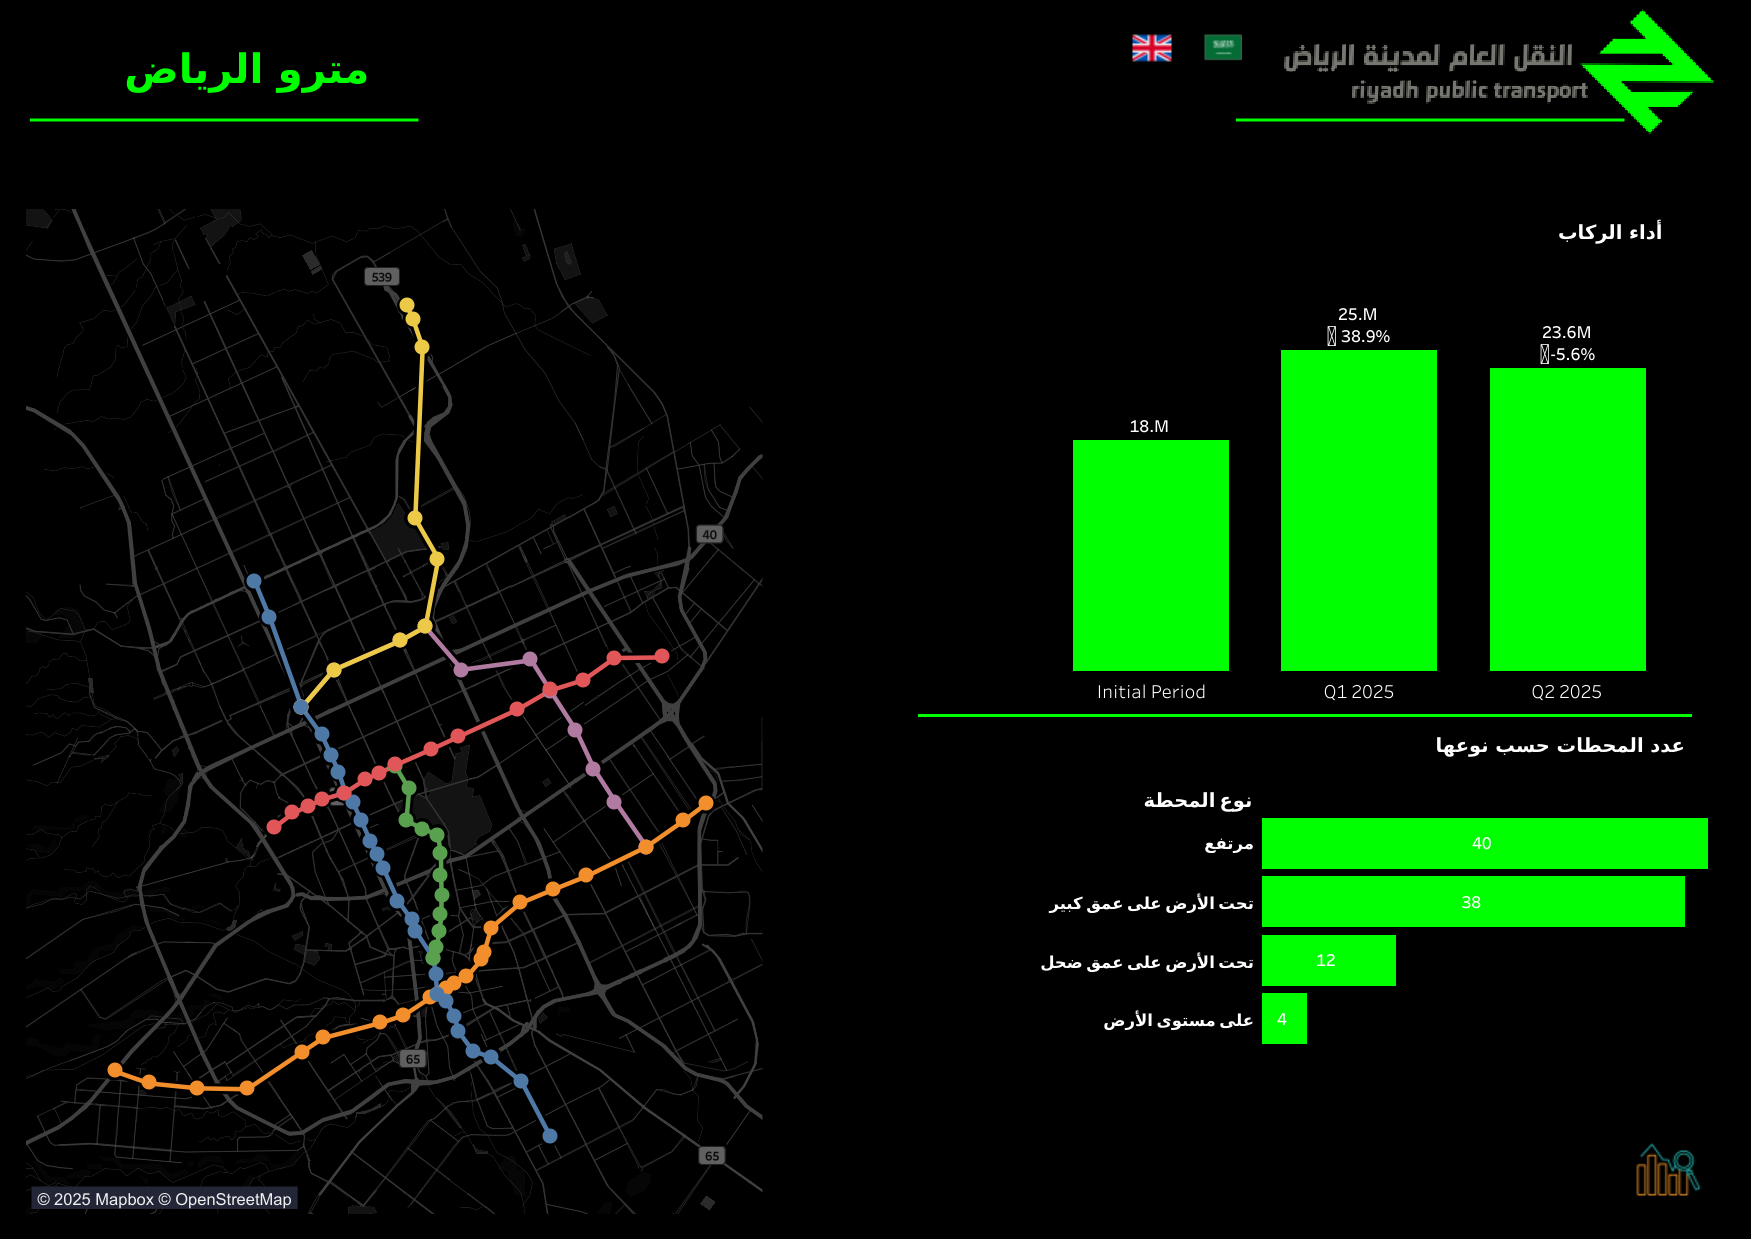

The dashboard page shown, as its layout file describes it:
{"tool":"tableau","page":{"name":"Arabic","canvas":[1169,827],"ordinal":0},"visuals":[{"type":"image","param":"Image/layout_set_logo.png","box":[837,6,325,133]},{"type":"text","box":[16,17,233,57]},{"type":"dashboard-object","box":[748,19,41,26]},{"type":"dashboard-object","box":[797,19,37,25]},{"type":"blank","box":[20,79,259,2]},{"type":"blank","box":[824,79,259,2]},{"type":"text","box":[956,120,155,69]},{"type":"worksheet","title":"arabic","mark":"Circle","rows":["Latitude"],"cols":["Longitude"],"box":[17,124,491,685]},{"type":"worksheet","title":"الركاب","mark":"Automatic","rows":["Passengers (M)"],"cols":["Period"],"box":[698,177,416,292]},{"type":"blank","box":[612,476,516,2]},{"type":"text","box":[870,481,257,30]},{"type":"worksheet","title":"عدد المحطات حسب نوعها","mark":"Automatic","rows":["نوع المحطة"],"cols":["نوع المحطة"],"box":[593,507,560,192]}]}

Visuals, with their boxes in screenshot pixels (x1, y1, x2, y2), scaled from the page's 1169x827 canvas onto the 1752x1239 screenshot:
image: locate(1254, 9, 1742, 208)
text: locate(24, 25, 373, 111)
dashboard-object: locate(1121, 28, 1182, 67)
dashboard-object: locate(1194, 28, 1250, 66)
blank: locate(30, 118, 418, 121)
blank: locate(1235, 118, 1623, 121)
text: locate(1433, 180, 1665, 283)
"arabic" worksheet (Circle marks): locate(25, 186, 761, 1212)
"الركاب" worksheet: locate(1046, 265, 1670, 703)
blank: locate(917, 713, 1691, 716)
text: locate(1304, 721, 1689, 766)
"عدد المحطات حسب نوعها" worksheet: locate(889, 760, 1728, 1047)
